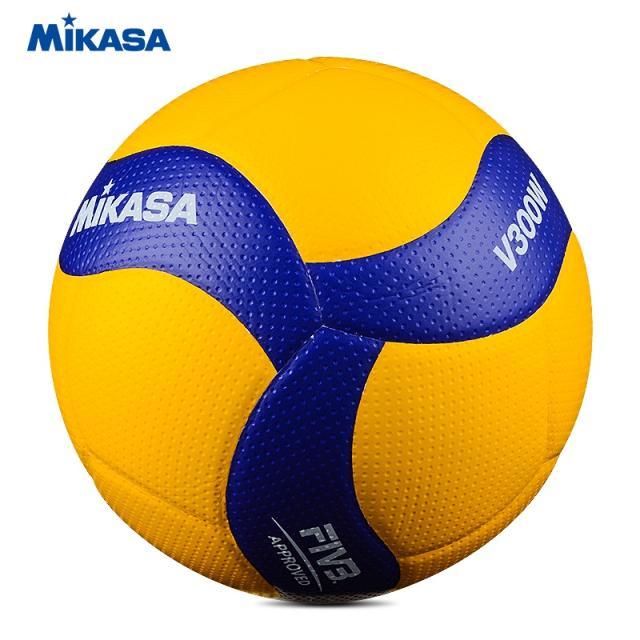Volleyball: (46, 56, 594, 607)
